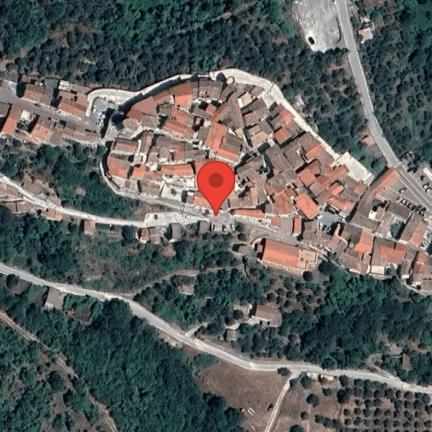area_open: (378, 159, 432, 223), (294, 0, 348, 50), (86, 85, 125, 129), (138, 205, 177, 218)
built: (107, 80, 432, 287), (0, 101, 101, 147), (0, 184, 62, 219), (258, 237, 319, 271), (55, 82, 91, 119), (409, 252, 432, 293), (21, 77, 52, 106), (249, 301, 278, 322), (138, 226, 160, 245), (44, 286, 61, 308), (398, 347, 415, 368), (200, 219, 218, 233), (362, 25, 375, 43), (170, 223, 182, 242), (84, 221, 95, 232), (363, 0, 380, 7)
vegetation_high: (0, 0, 386, 169), (0, 270, 249, 432), (226, 262, 432, 388), (0, 137, 147, 222), (368, 1, 432, 166), (139, 266, 279, 340), (285, 382, 432, 432), (0, 205, 87, 287), (142, 244, 238, 269), (352, 0, 402, 22)
vegetation_low: (82, 222, 245, 299), (216, 360, 340, 431), (210, 221, 323, 281)
